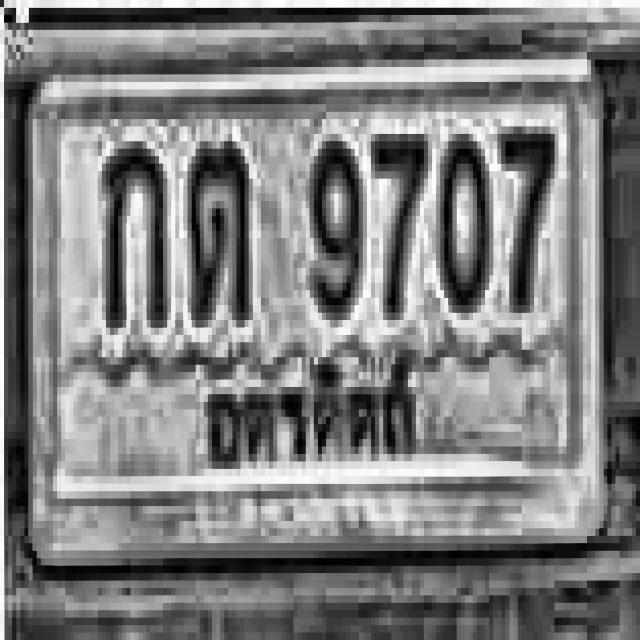license-plate: (28, 46, 606, 564)
